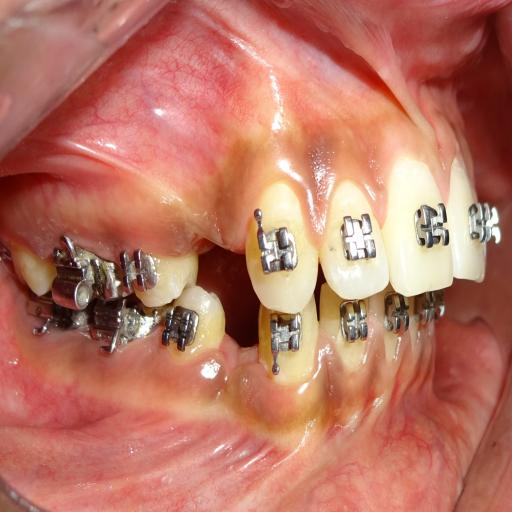correct_brace: (122, 243, 198, 307), (160, 286, 226, 358), (254, 205, 303, 290), (415, 192, 450, 262), (338, 208, 376, 271), (163, 300, 208, 352)
incorrect_brace: (323, 185, 389, 298), (124, 250, 164, 294)
